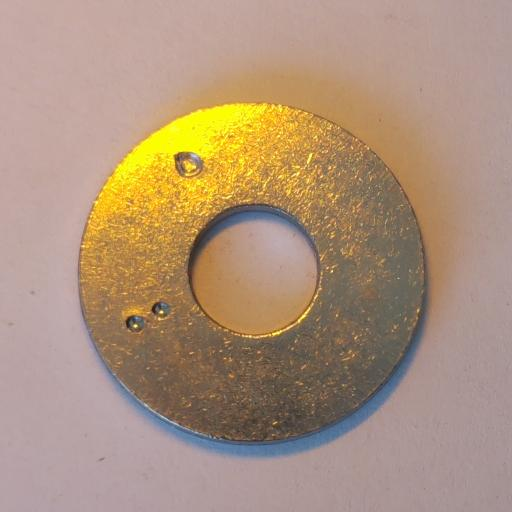circular_cavity: (174, 151, 203, 178), (126, 315, 145, 333), (152, 302, 170, 317)
